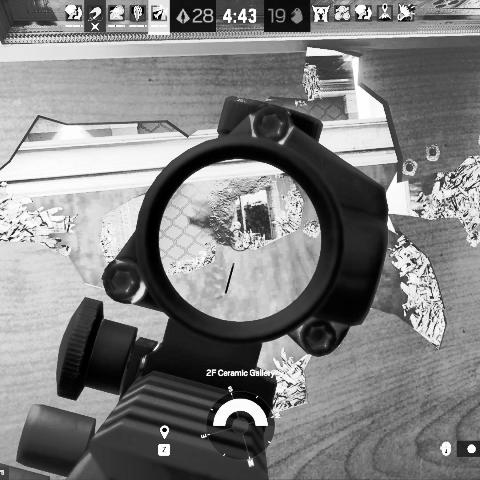Character: (231, 220, 244, 235)
Head: (232, 221, 242, 232)
